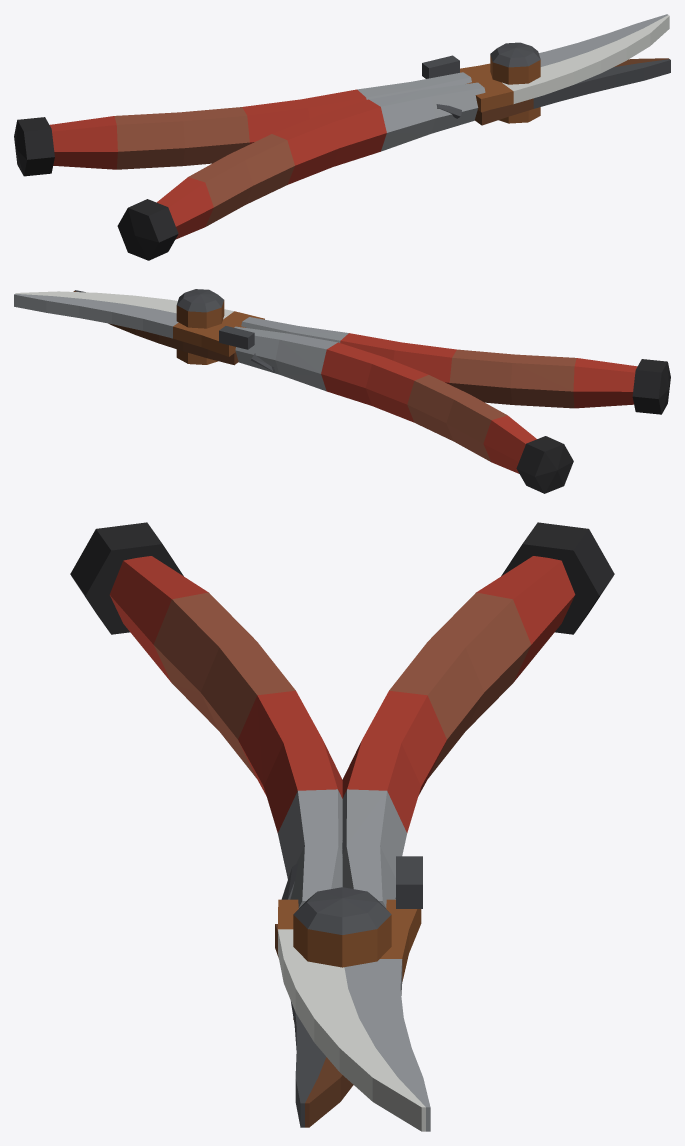
The model's file is Garden_Shears.fbx.
3 views of the same model, one above another, from view 1: azimuth 30°, elevation 25°; view 2: azimuth 150°, elevation 25°; view 3: azimuth 270°, elevation 25° (orthographic). The views are drawn at different scales.
Visible parts, largest first — view 1: Garden_Shears; view 2: Garden_Shears; view 3: Garden_Shears.
Boxes of the visible parts, box(x1,y1,x2,y2) form: Garden_Shears: box(14, 14, 670, 260); Garden_Shears: box(14, 289, 670, 493); Garden_Shears: box(70, 522, 614, 1131).
Size of the model in its own units: 0.2999 by 0.03 by 0.1219.
Materials: 1 (1 with a texture image).
